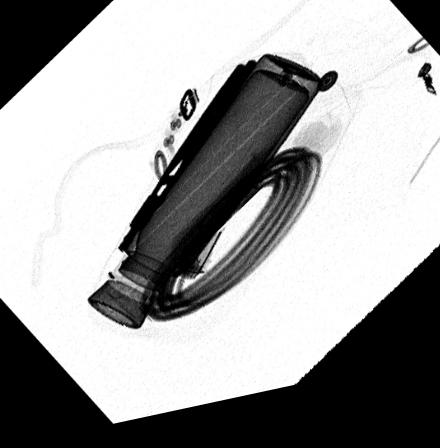Pliers: (117, 70, 257, 258)
